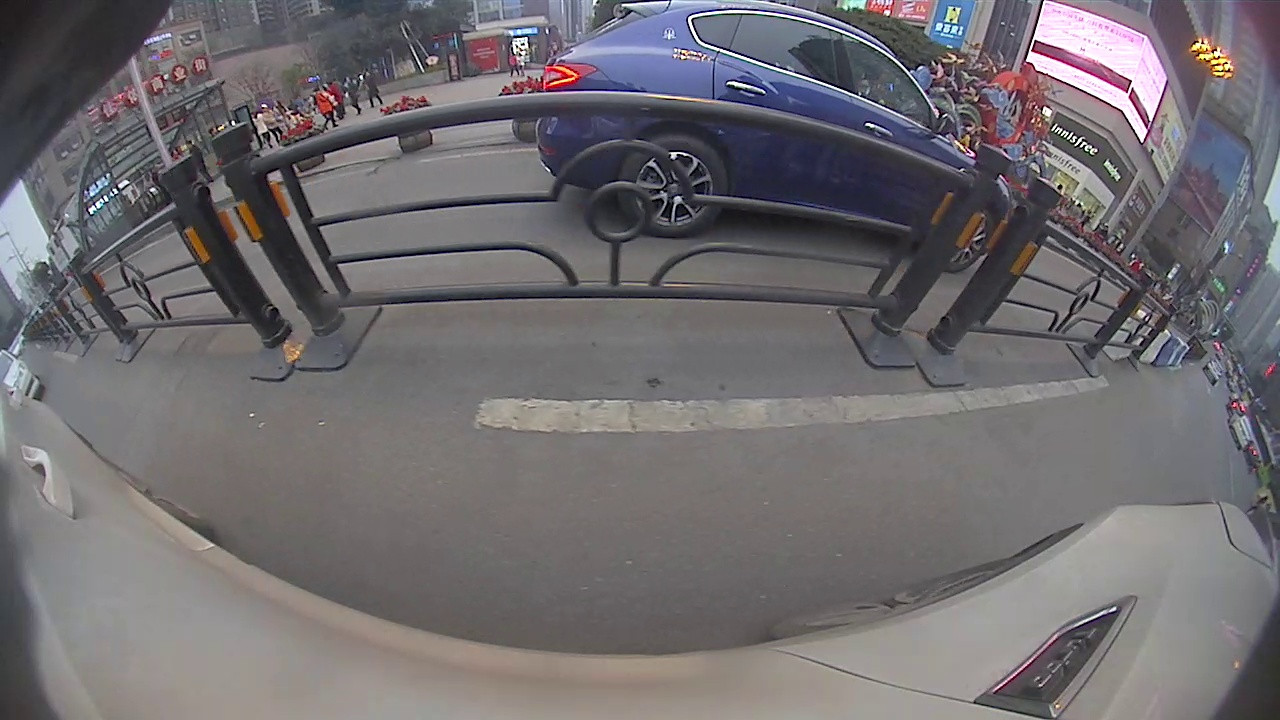car: (534, 3, 1011, 270)
front: (946, 210, 999, 273)
rear: (622, 132, 727, 239)
